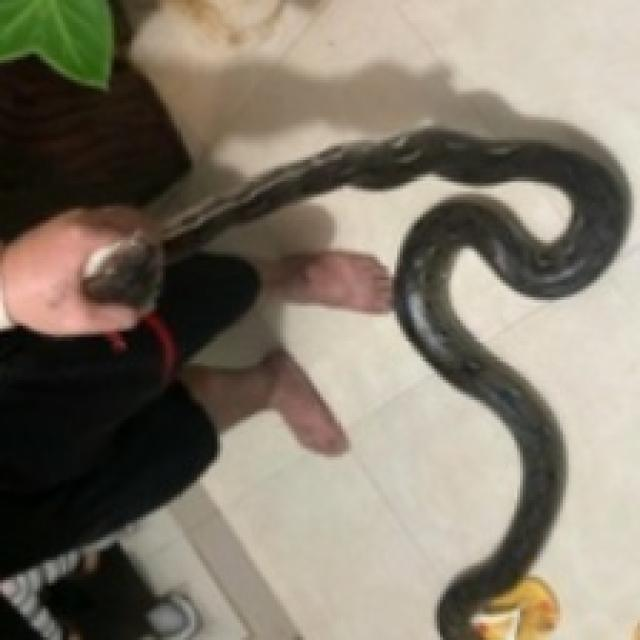reticulated python: (82, 129, 624, 640)
